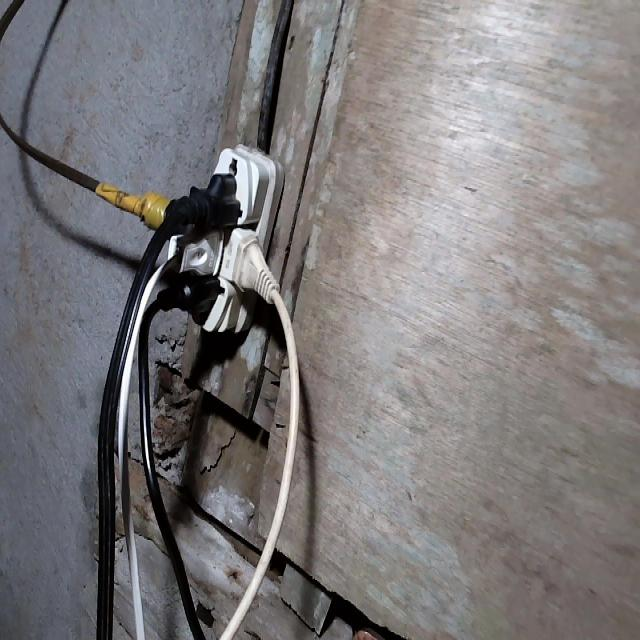-: (128, 144, 287, 332)
